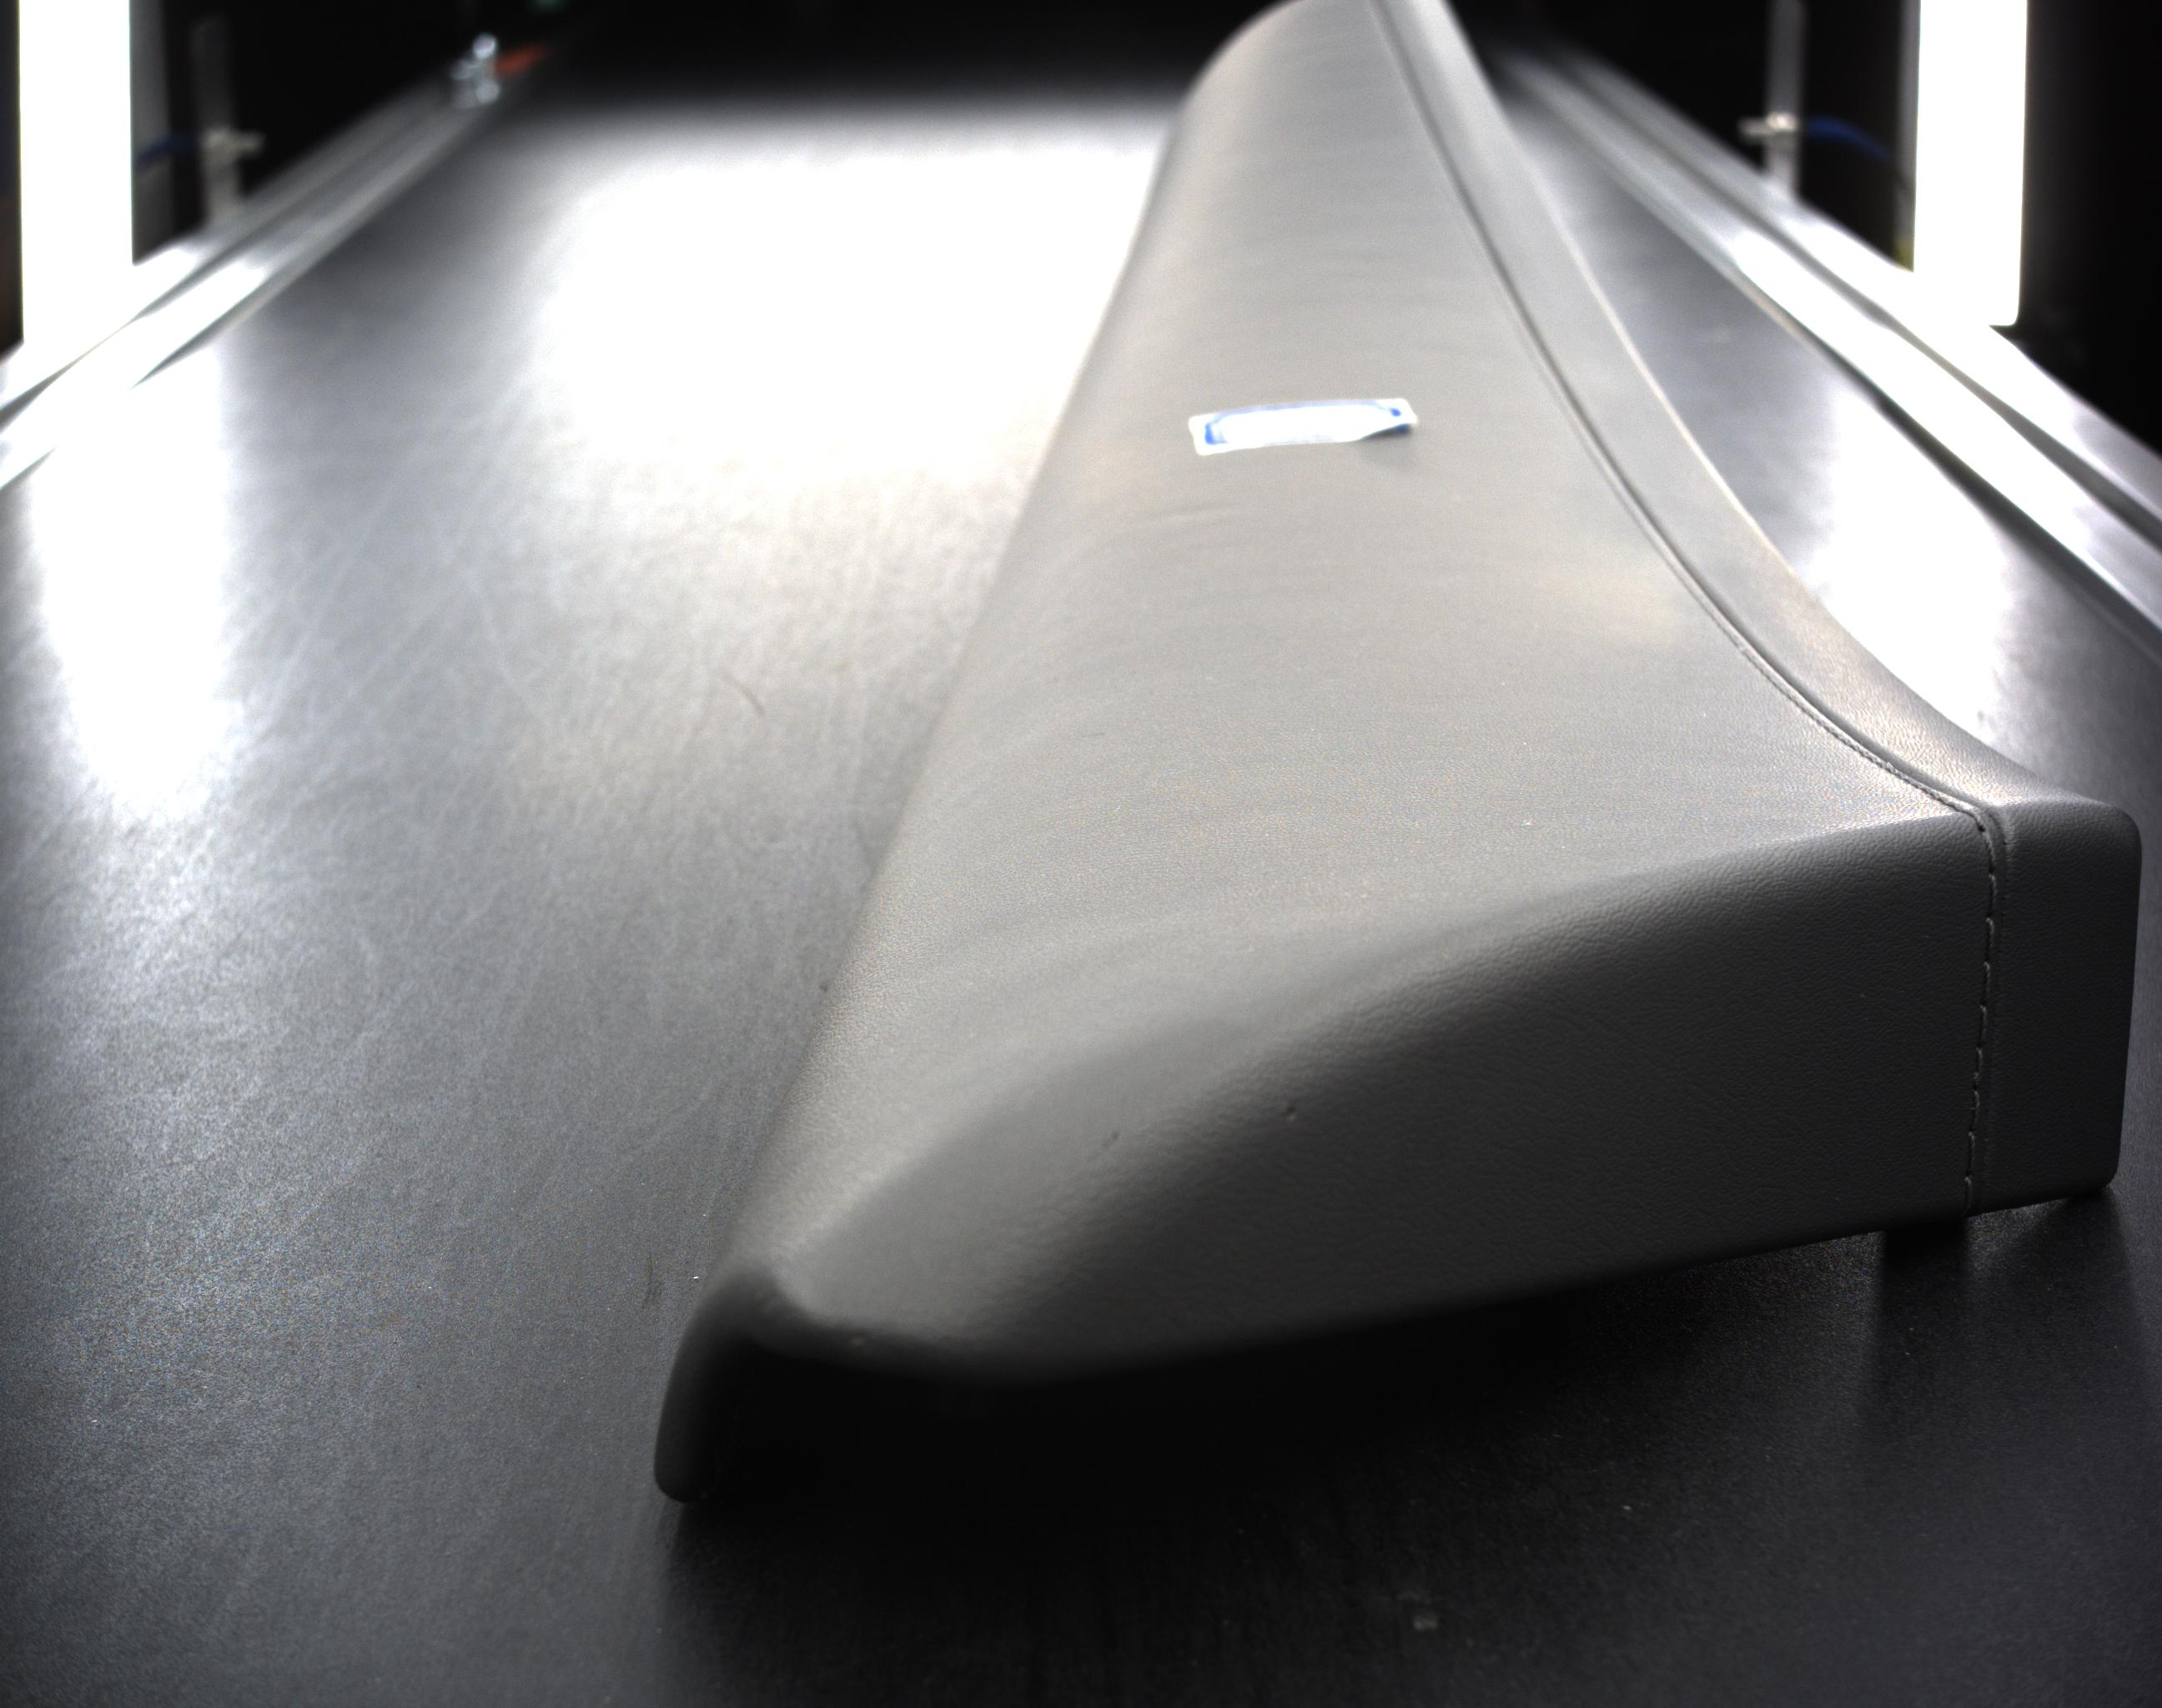vline: (1978, 1006, 1990, 1048), (1988, 876, 1999, 918), (1981, 964, 1992, 1004), (1971, 1090, 1981, 1129), (1972, 1050, 1983, 1085), (1967, 1134, 1976, 1176), (1964, 1178, 1974, 1211), (1985, 922, 1994, 960)
